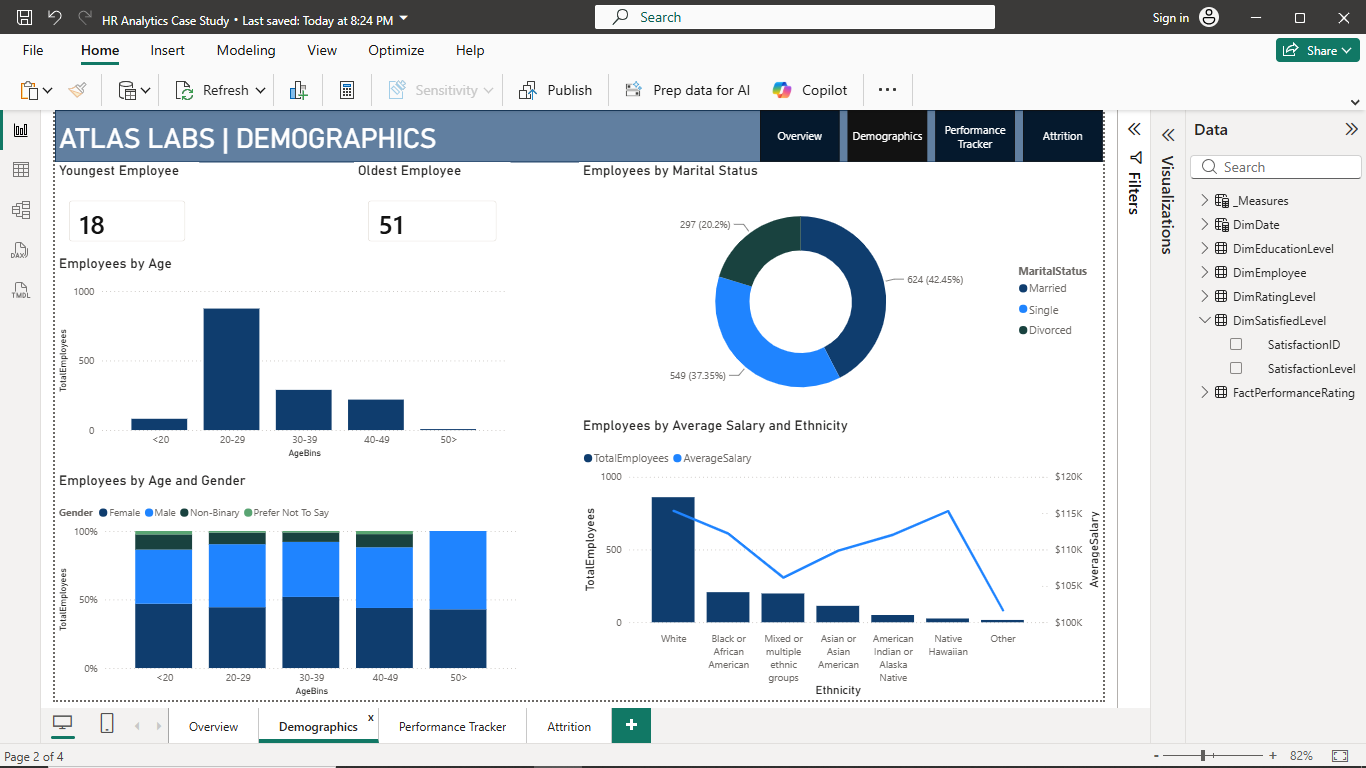

The page's visual inventory and layout, read from the dashboard file:
{"tool":"powerbi","page":{"name":"Demographics","canvas":[1280,720],"ordinal":1},"visuals":[{"type":"shape","box":[0,0,1280,63.8],"z":0},{"type":"cardVisual","title":"Youngest Employee","fields":{"Data":["Min(DimEmployee.Age)"]},"box":[0,63.4,176.2,114.2],"z":1000},{"type":"cardVisual","title":"Oldest Employee","fields":{"Data":["Max(DimEmployee.Age)"]},"box":[364.9,63.5,191.5,114.2],"z":2000},{"type":"columnChart","title":"Employees by Age","fields":{"Y":["_Measures.TotalEmployees"],"Category":["DimEmployee.AgeBins"]},"box":[0,176.9,556.5,252.6],"z":3000},{"type":"hundredPercentStackedColumnChart","title":"Employees by Age and Gender","fields":{"Y":["_Measures.TotalEmployees"],"Category":["DimEmployee.AgeBins"],"Series":["DimEmployee.Gender"]},"box":[0,441.8,569.9,278.2],"z":4000},{"type":"donutChart","title":"Employees by Marital Status","fields":{"Y":["_Measures.TotalEmployees"],"Category":["DimEmployee.MaritalStatus"]},"box":[640,63.3,640,311.1],"z":5000},{"type":"lineStackedColumnComboChart","title":"Employees by Average Salary and Ethnicity","fields":{"Category":["DimEmployee.Ethnicity"],"Y":["_Measures.TotalEmployees"],"Y2":["_Measures.AverageSalary"]},"box":[640,374.4,640,346.8],"z":6000},{"type":"textbox","box":[0,9.9,490.6,50.7],"z":7000},{"type":"pageNavigator","box":[859.9,0,419.9,63.8],"z":8000}]}

Visuals, with their boxes on the page's 1280x720 design canvas (x1, y1, x2, y2). These are canvas units, not pixel positions in the 1366x768 screenshot, which may show the page scaled, cropped or inside an application window:
shape: crop(0, 0, 1280, 64)
"Youngest Employee" cardVisual: crop(0, 63, 176, 178)
"Oldest Employee" cardVisual: crop(365, 64, 556, 178)
"Employees by Age" columnChart: crop(0, 177, 556, 430)
"Employees by Age and Gender" hundredPercentStackedColumnChart: crop(0, 442, 570, 720)
"Employees by Marital Status" donutChart: crop(640, 63, 1280, 374)
"Employees by Average Salary and Ethnicity" lineStackedColumnComboChart: crop(640, 374, 1280, 721)
textbox: crop(0, 10, 491, 61)
pageNavigator: crop(860, 0, 1280, 64)
